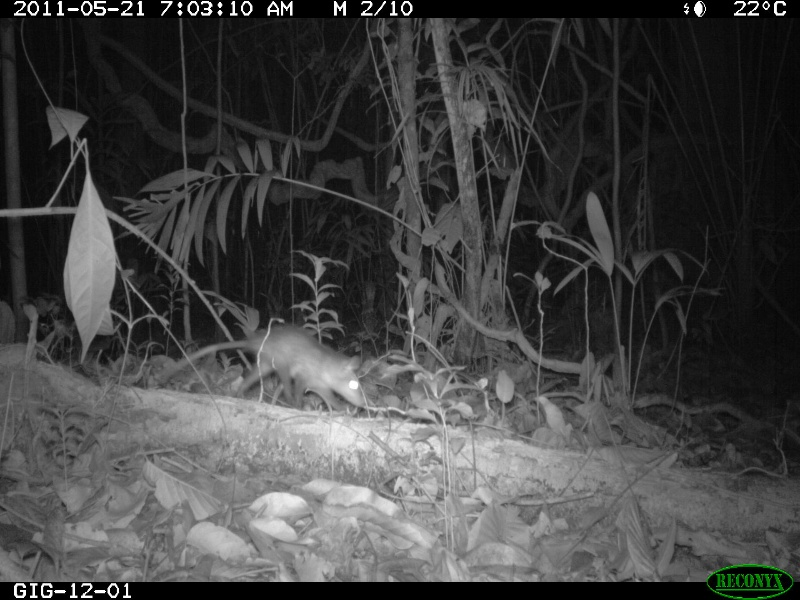opossum: (129, 323, 369, 419)
